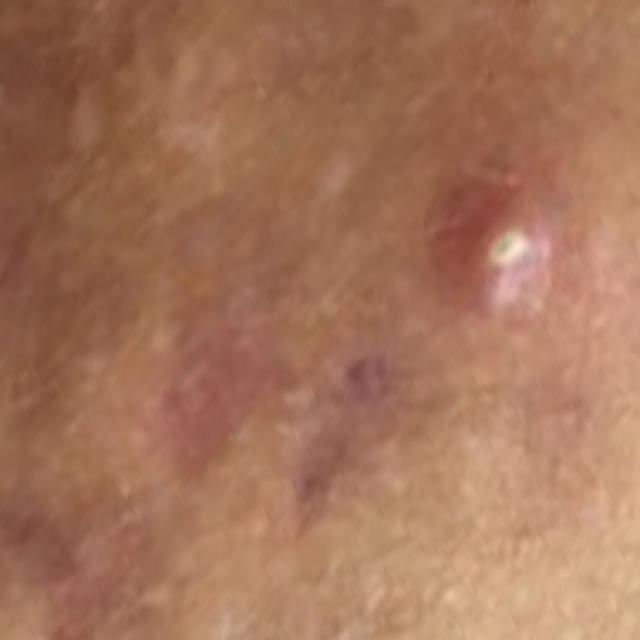acne: (0, 0, 188, 393), (258, 348, 452, 540), (419, 164, 578, 328)
